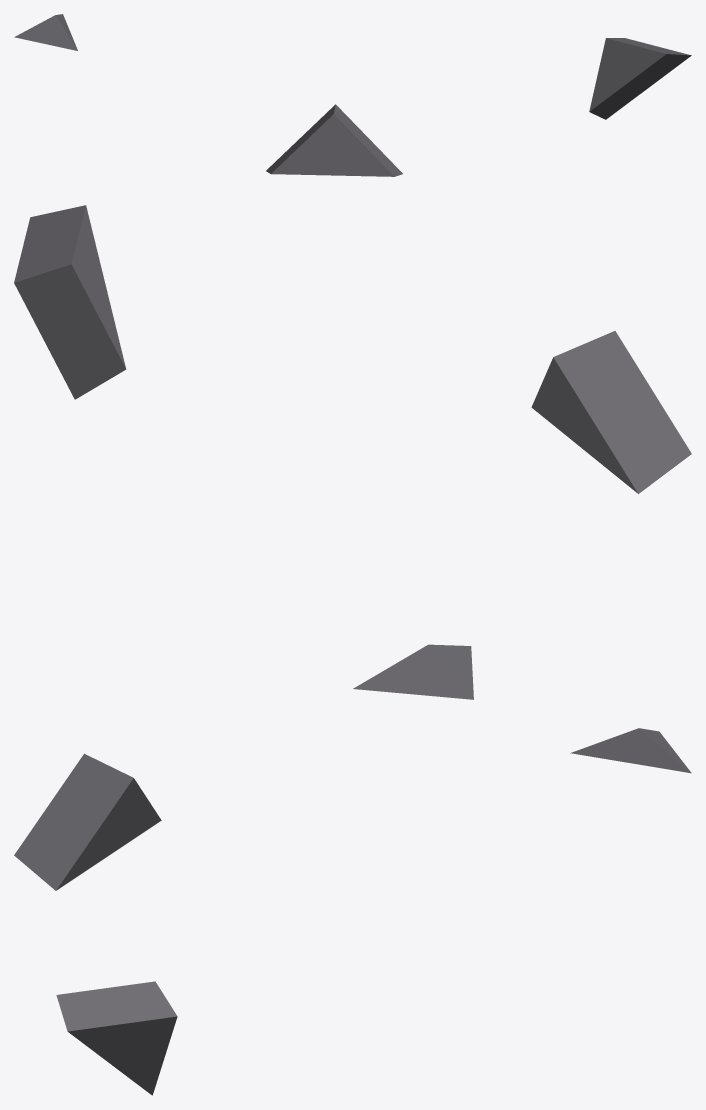
Rendered from Rocks_Sharp_s_06.fbx.
The picture shows the model from 3 angles, top to bottom: view 1: azimuth 30°, elevation 25°; view 2: azimuth 150°, elevation 25°; view 3: azimuth 270°, elevation 25°; orthographic projection. The views are drawn at different scales.
Visible parts, largest first — view 1: Rocks_Sharp_s_06; view 2: Rocks_Sharp_s_06; view 3: Rocks_Sharp_s_06.
Boxes of the visible parts, x1,y1,x2,y2 form: Rocks_Sharp_s_06: (14,14,691,176); Rocks_Sharp_s_06: (14,205,691,699); Rocks_Sharp_s_06: (14,728,691,1095).
Size of the model in its own units: 73.4 by 14.27 by 64.28.
